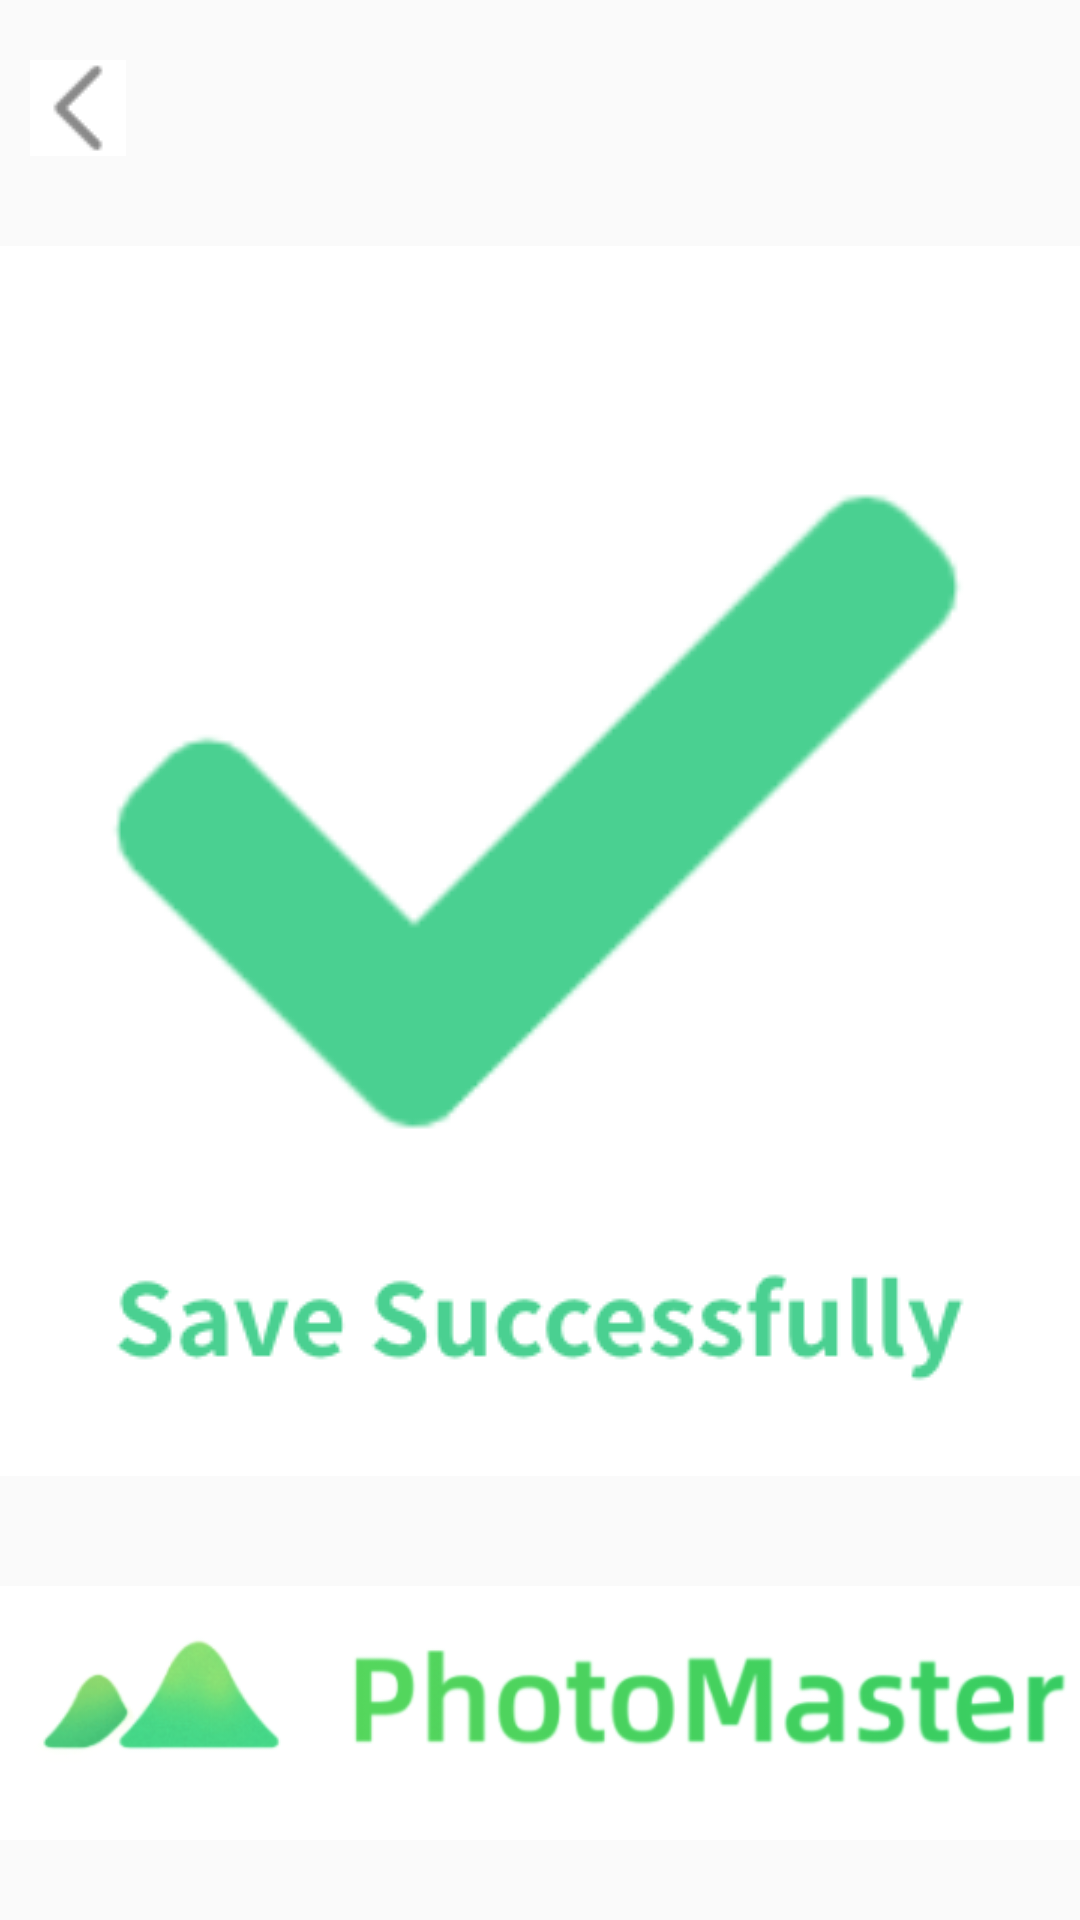

Where to tap for icons on this 1080w x 1920h app screen, as (x,y):
back: (78,108)
